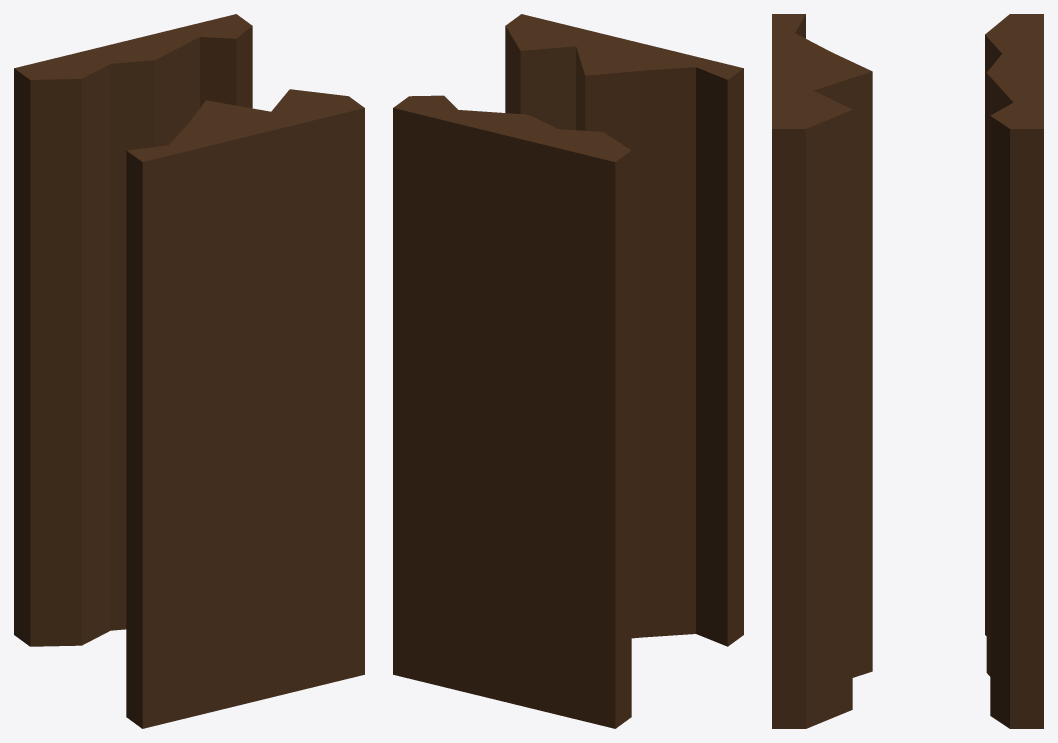
File: Ravine.glb
3 renders of one model, left to right at view 1: azimuth 30°, elevation 25°; view 2: azimuth 150°, elevation 25°; view 3: azimuth 270°, elevation 25°, orthographic. The views are drawn at different scales.
Visible parts, largest first — view 1: Cube.019; view 2: Cube.019; view 3: Cube.019.
Boxes of the visible parts, x1,y1,x2,y2 form: Cube.019: (14,14,364,728); Cube.019: (393,14,743,728); Cube.019: (772,14,1043,728).
Bounding box in the file's own units: 2 × 4.87 × 2.
Materials: 1 (1 with a texture image).
